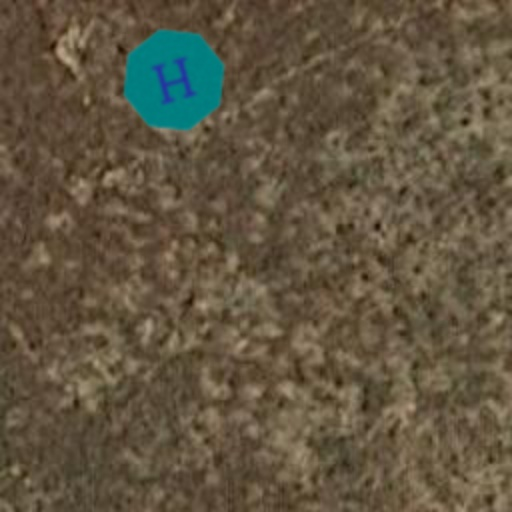octagon: (108, 14, 240, 146)
